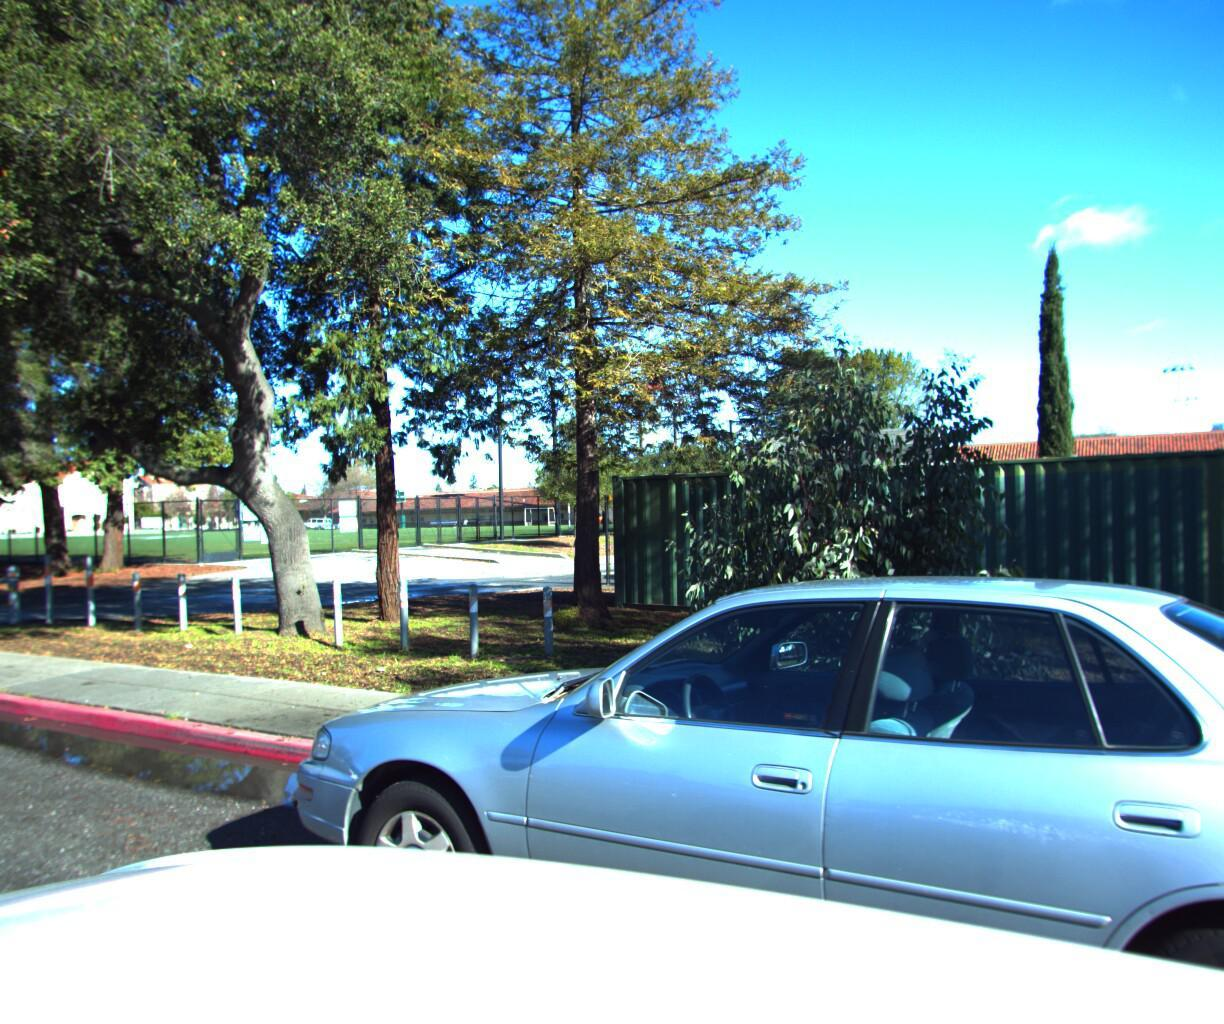car: (219, 553, 1224, 1024)
